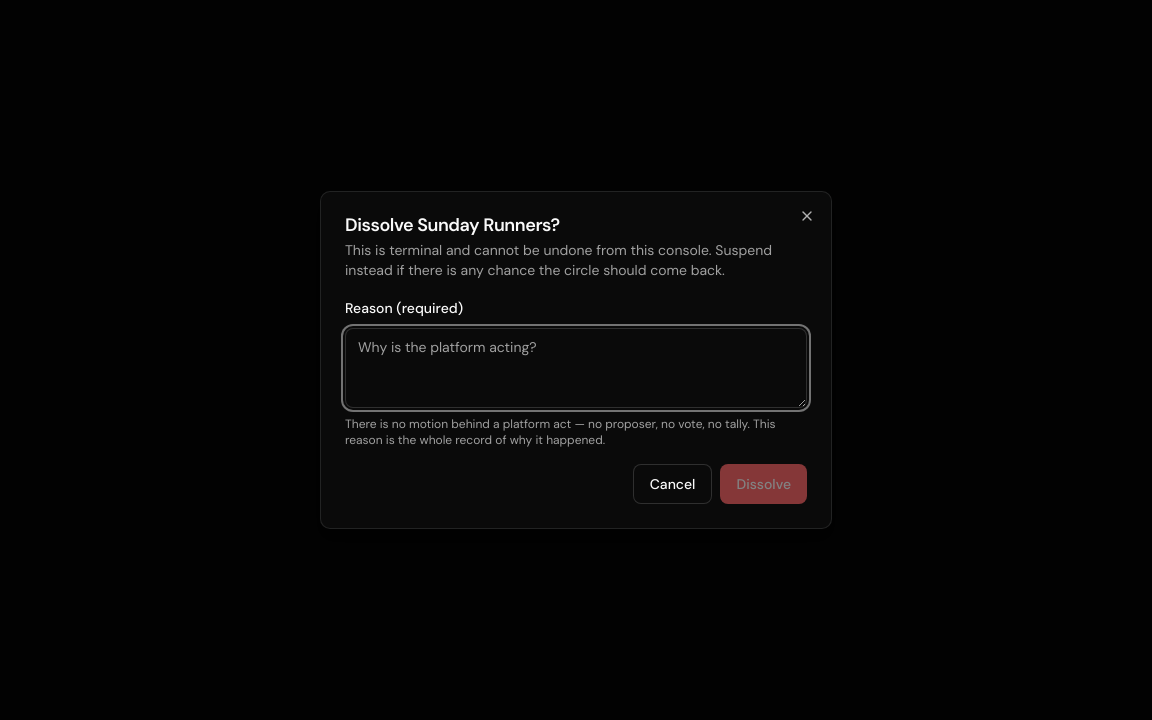
CircleActionDialogs › treats a resolved mutation with no circle as a failure
Step 1. Type "Court order" into the text box labelled "Reason (required)" → {"x": 576, "y": 368}, box [345, 328, 807, 408]
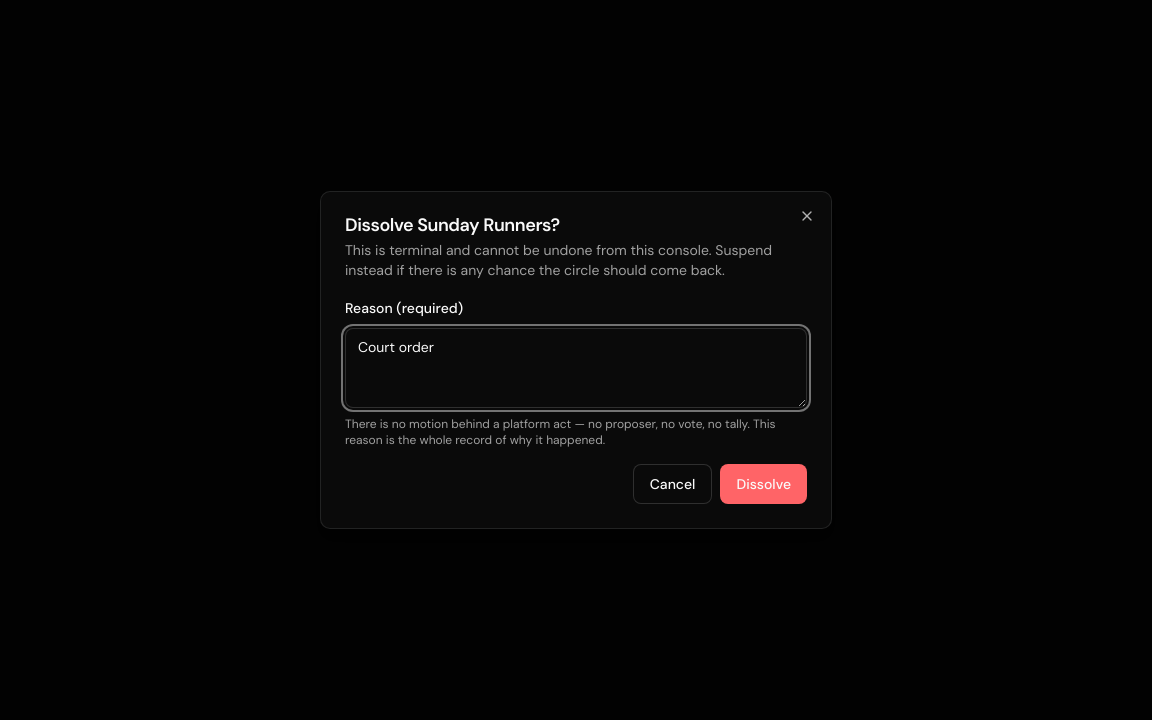
Step 2. Click the button "Dissolve" → {"x": 764, "y": 484}, box [720, 464, 807, 504]
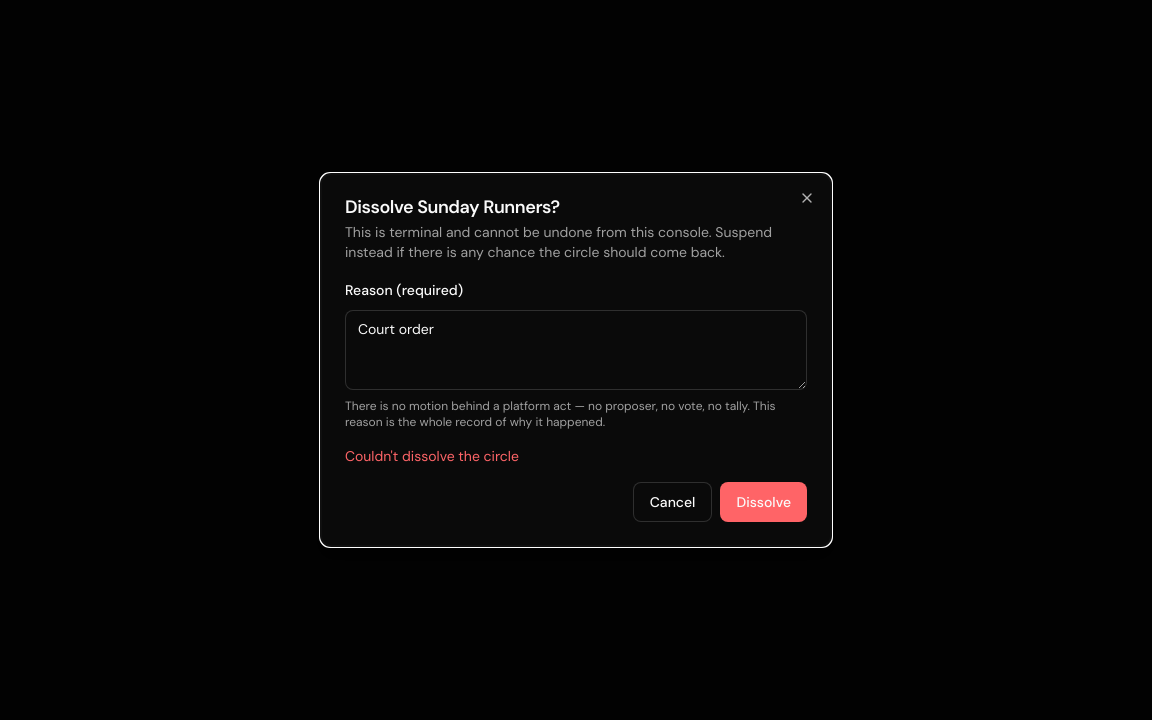
Check: the message reads "Couldn't dissolve the circle", box [345, 447, 519, 465]
